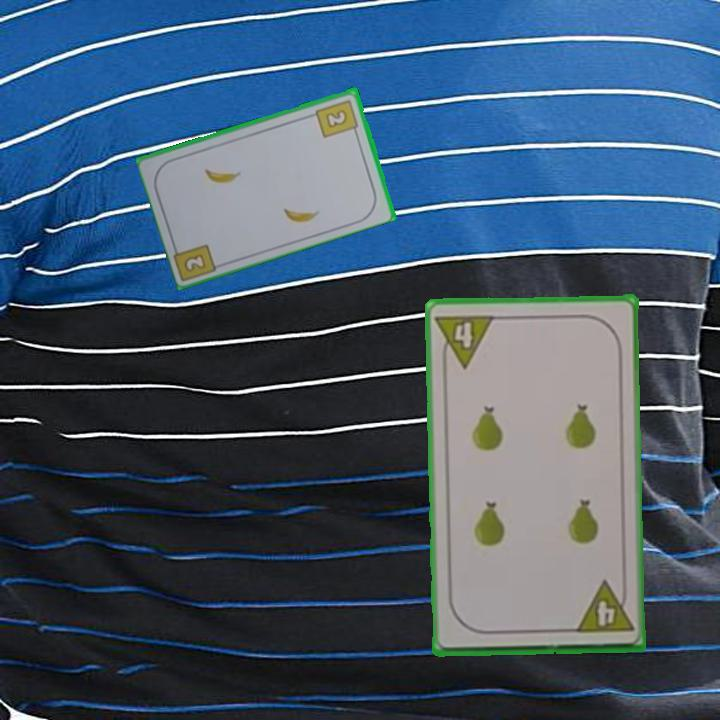2b: (313, 96, 361, 140), (183, 252, 207, 273)
4p: (432, 310, 497, 371), (571, 578, 636, 636)
